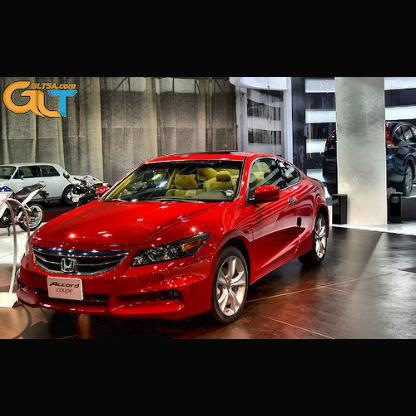Honda Accord Coupe 2012: (15, 156, 331, 327)
